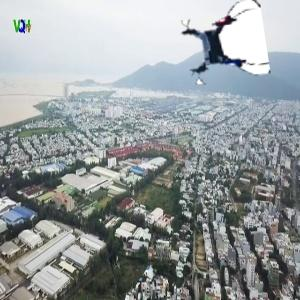drone: (180, 2, 267, 89)
